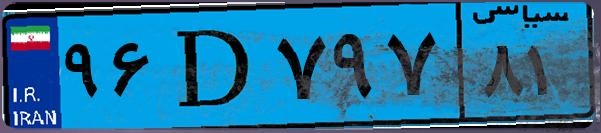1: (525, 38, 570, 115)
6: (110, 28, 158, 98)
7: (270, 28, 330, 110), (385, 28, 445, 110)
8: (475, 38, 525, 113)
9: (330, 28, 385, 110), (57, 26, 110, 100)
D: (158, 12, 270, 120)
